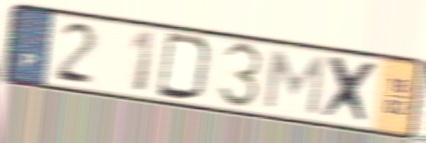1: (128, 28, 157, 95)
2: (48, 22, 103, 86)
3: (215, 40, 265, 112)
D: (154, 30, 216, 104)
M: (261, 48, 328, 119)
X: (317, 53, 382, 129)
